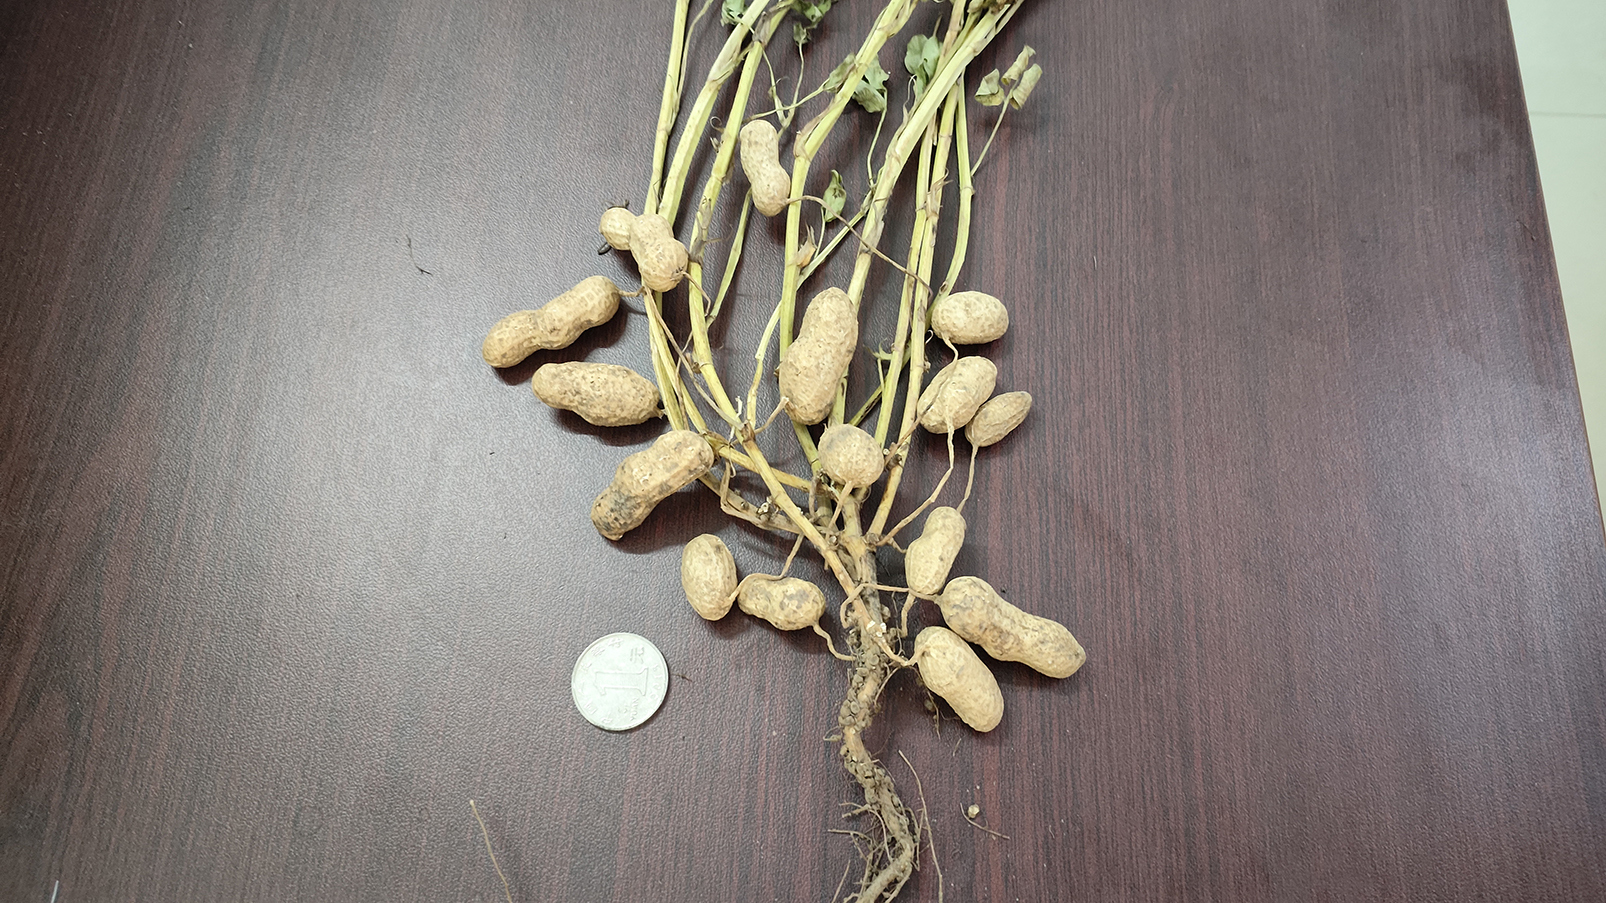h: (941, 576, 1086, 680), (591, 428, 717, 545), (481, 275, 621, 370), (777, 281, 859, 429), (913, 623, 1003, 733), (531, 359, 661, 428), (599, 207, 687, 292), (916, 355, 998, 431), (903, 505, 968, 596), (738, 573, 824, 633), (681, 534, 736, 624), (738, 121, 790, 214), (815, 426, 885, 487), (965, 389, 1036, 450), (931, 290, 1009, 342)
